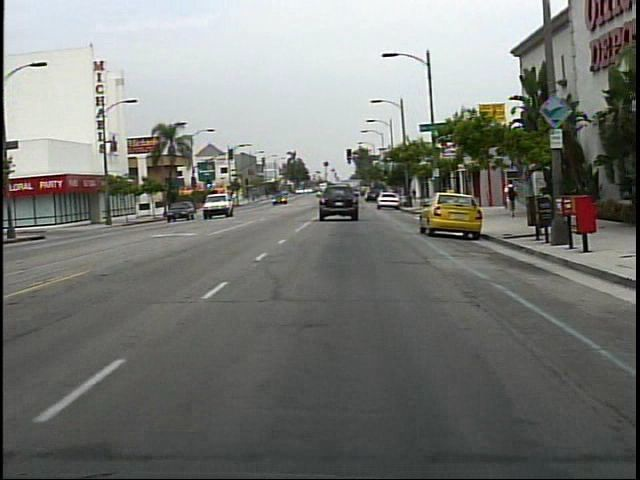person: (499, 174, 522, 222)
